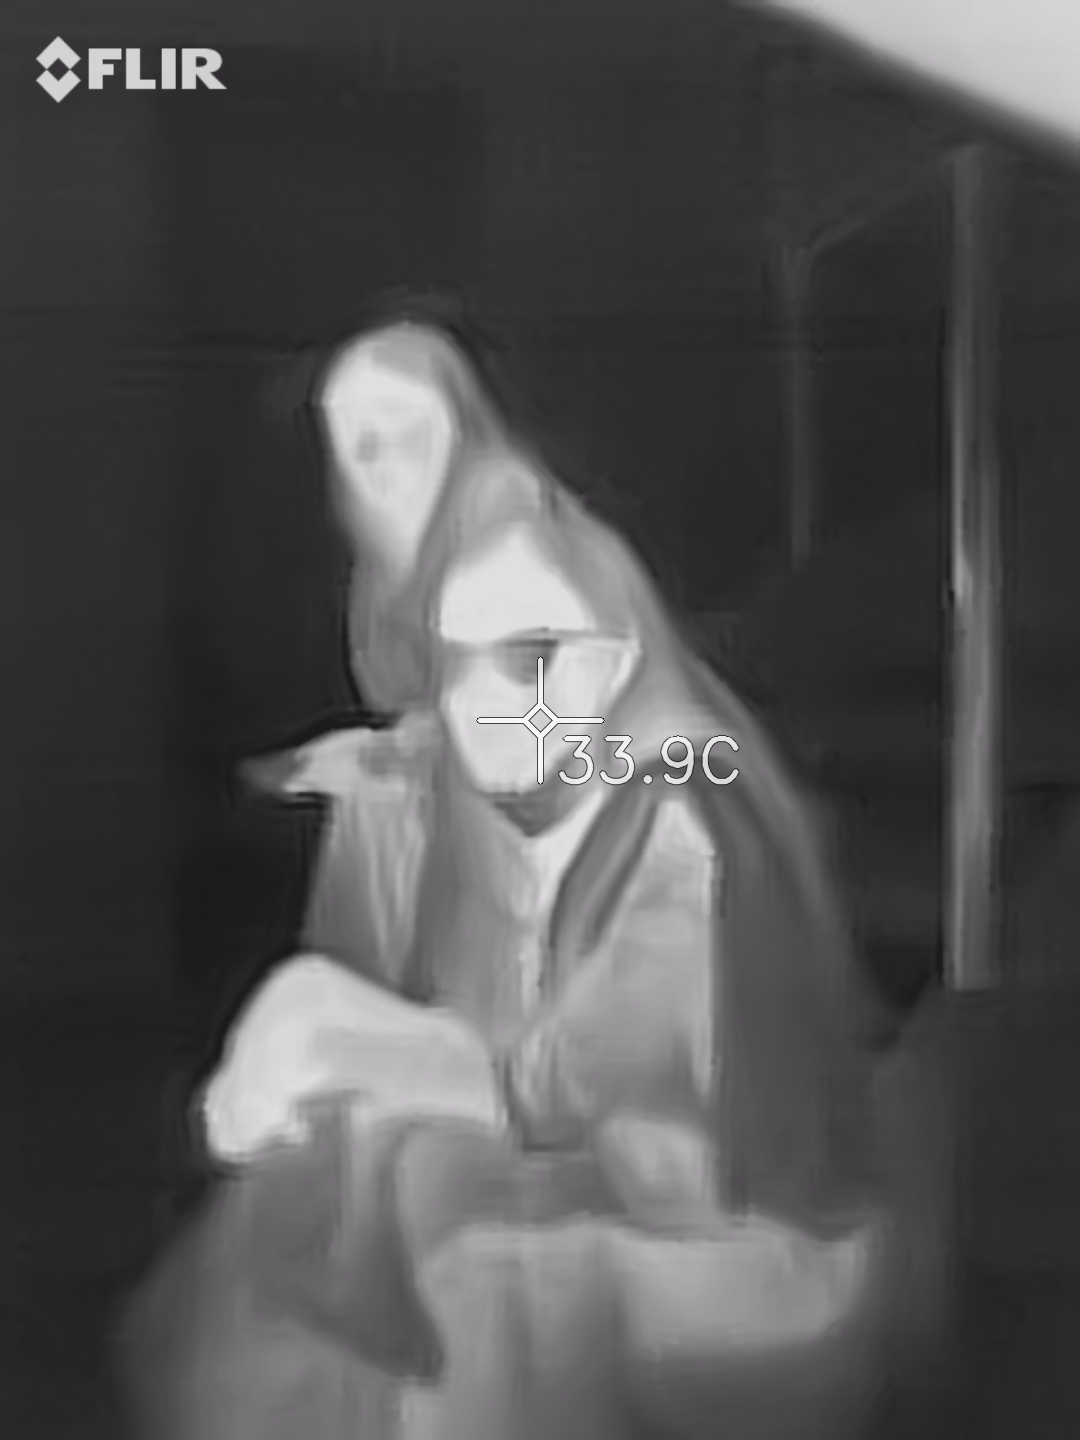head: (422, 525, 661, 822)
